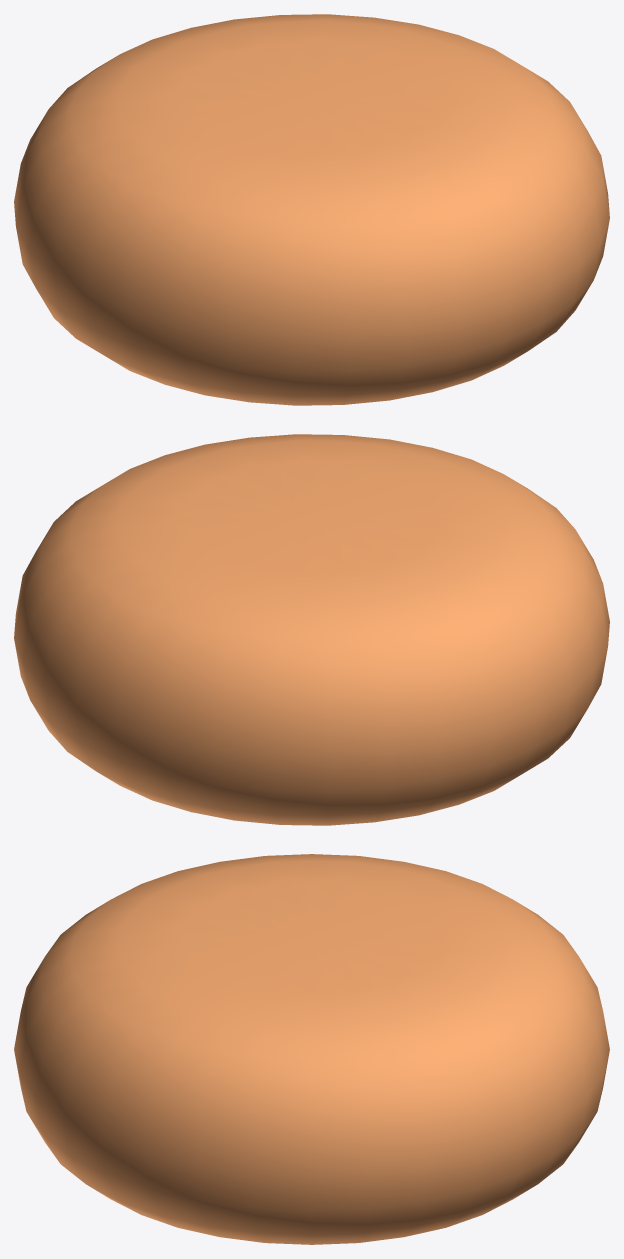
File: Donut_B_03.fbx
3 renders of one model, top to bottom at view 1: azimuth 30°, elevation 25°; view 2: azimuth 150°, elevation 25°; view 3: azimuth 270°, elevation 25°, orthographic.
Visible parts, largest first — view 1: Donut_B_03_LOD0; view 2: Donut_B_03_LOD0; view 3: Donut_B_03_LOD0.
Boxes of the visible parts, x1,y1,x2,y2 form: Donut_B_03_LOD0: (14, 14, 609, 405); Donut_B_03_LOD0: (14, 434, 609, 825); Donut_B_03_LOD0: (14, 854, 609, 1244).
Size of what is drawn, in the model's own units: 553 by 230 by 553.
